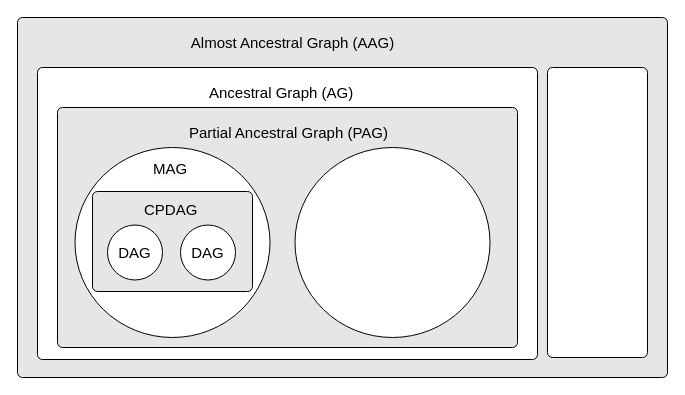
Image size: 685x395. Some labels were removed from this diagram. Here are the shapes that lost their labels. From the top down, the centre of each, then its label:
the point at 597,212: Maximal Almost Ancestral Graph (MAAG)
the point at 392,242: Maximal Ancestral Graph (MAG)
